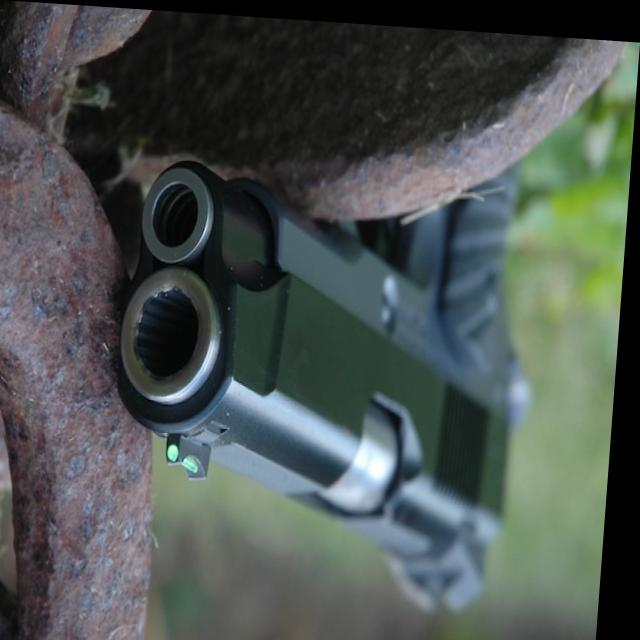handgun: (112, 146, 548, 618)
